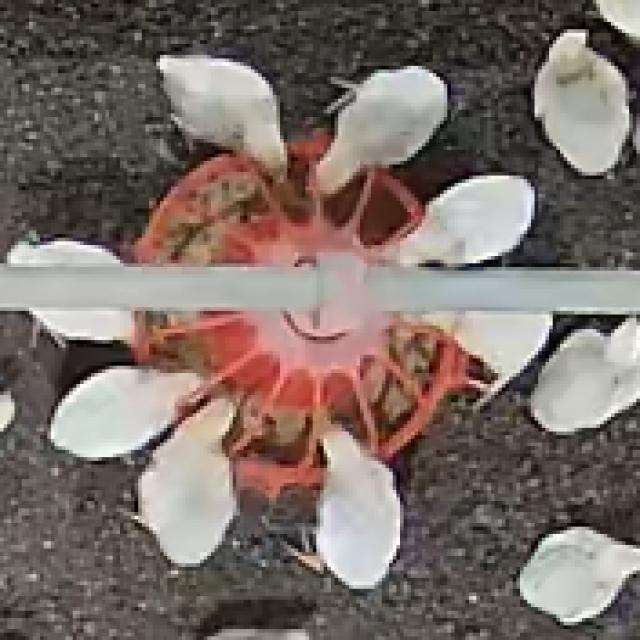broiler: (316, 66, 444, 194), (138, 399, 233, 563), (156, 55, 284, 172), (531, 29, 629, 172), (51, 366, 196, 457), (316, 428, 400, 585), (527, 318, 636, 432), (389, 176, 531, 263), (429, 311, 549, 406), (516, 527, 636, 622), (29, 307, 131, 336), (7, 238, 116, 263)
pipe: (0, 260, 331, 307), (364, 267, 636, 311)
rice: (131, 311, 476, 494), (131, 132, 422, 263)
